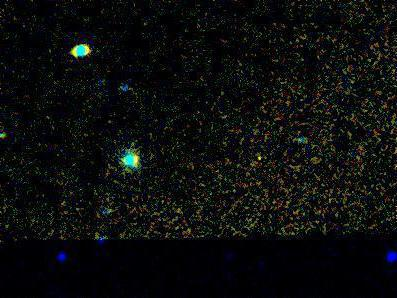star: (243, 141, 273, 171)
